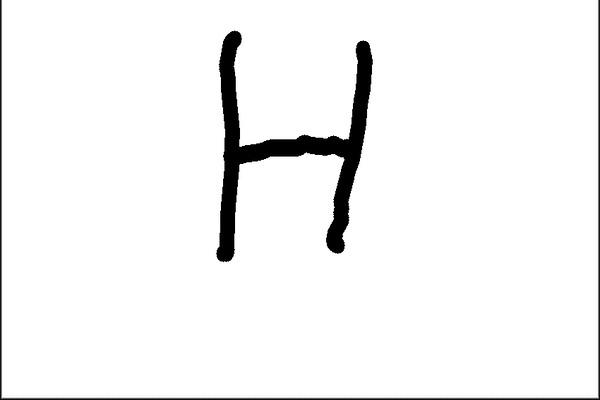H: (204, 27, 378, 270)
